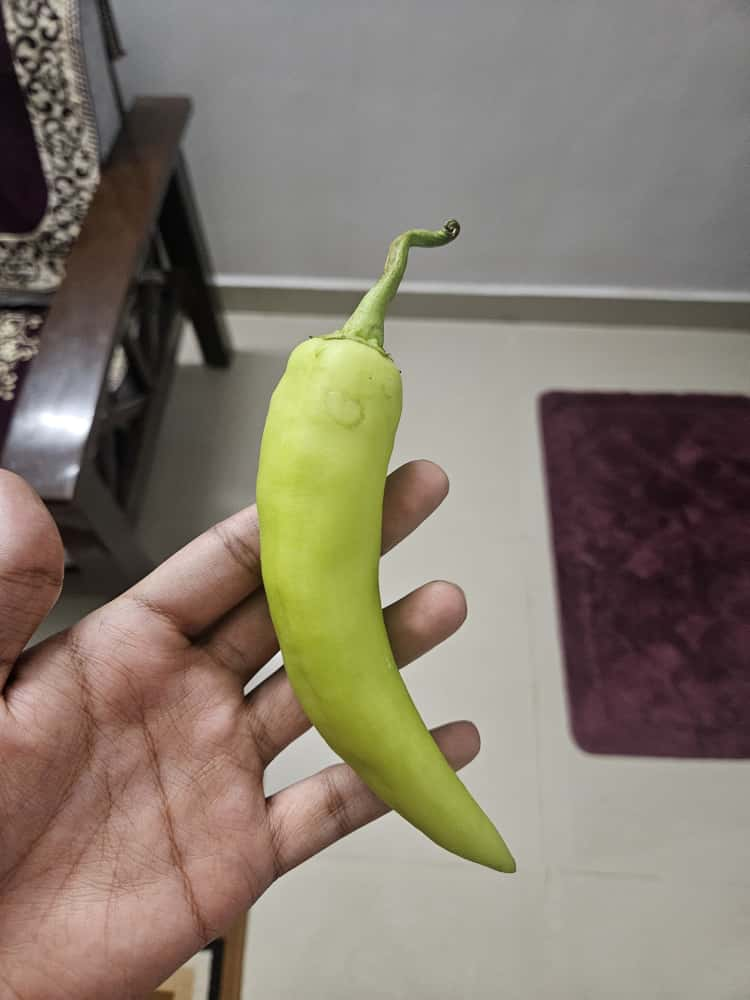wet: (244, 205, 495, 898)
